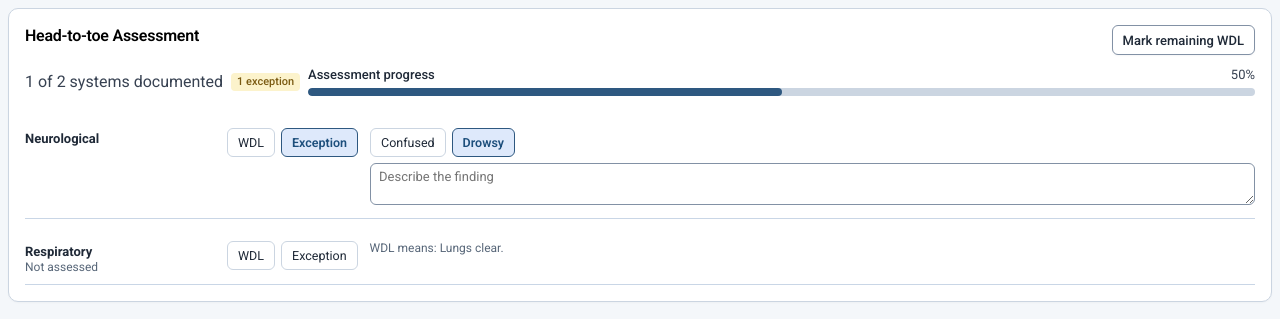
Test case: NursingAssessment › marks the remaining systems WDL
Click the button "Mark remaining WDL" at (1183, 40), box x1=1112 y1=25 x2=1255 y2=55
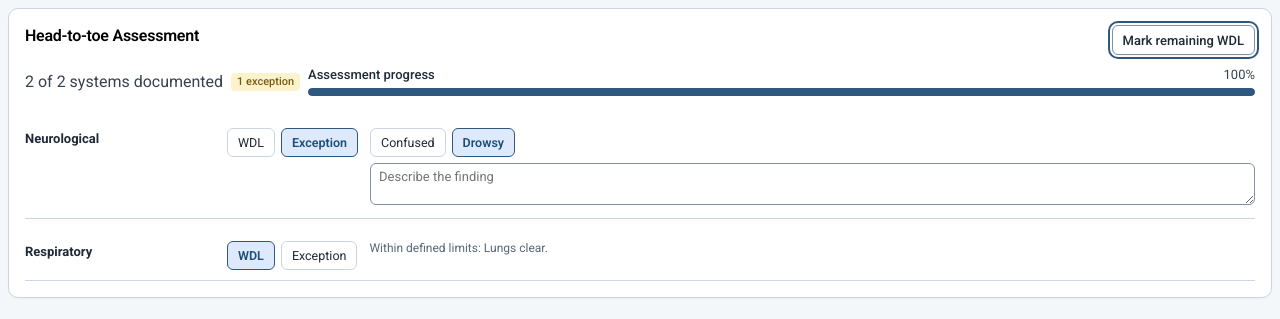
Expected: the text "2 of 2 systems documented" is shown, x1=25 y1=72 x2=223 y2=91
Expected: the text "Within defined limits: Lungs clear." is shown, x1=369 y1=241 x2=548 y2=255
